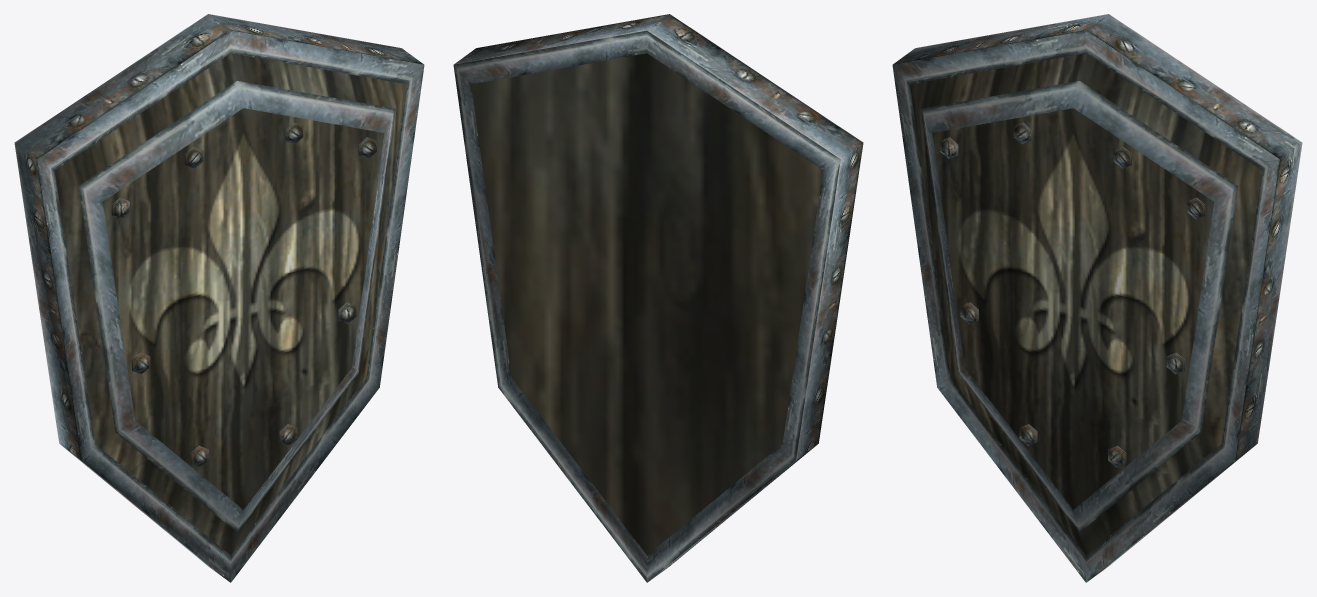
The model's file is shield-01.fbx.
3 renders of one model, left to right at view 1: azimuth 30°, elevation 25°; view 2: azimuth 150°, elevation 25°; view 3: azimuth 330°, elevation 25°, orthographic.
Visible parts, largest first — view 1: Cube.168; view 2: Cube.168; view 3: Cube.168.
Boxes of the visible parts, bbox=[...] form: Cube.168: bbox=[14, 14, 424, 582]; Cube.168: bbox=[453, 14, 863, 582]; Cube.168: bbox=[892, 14, 1302, 582].
Size of the model in its own units: 0.695 by 0.947 by 0.1138.
